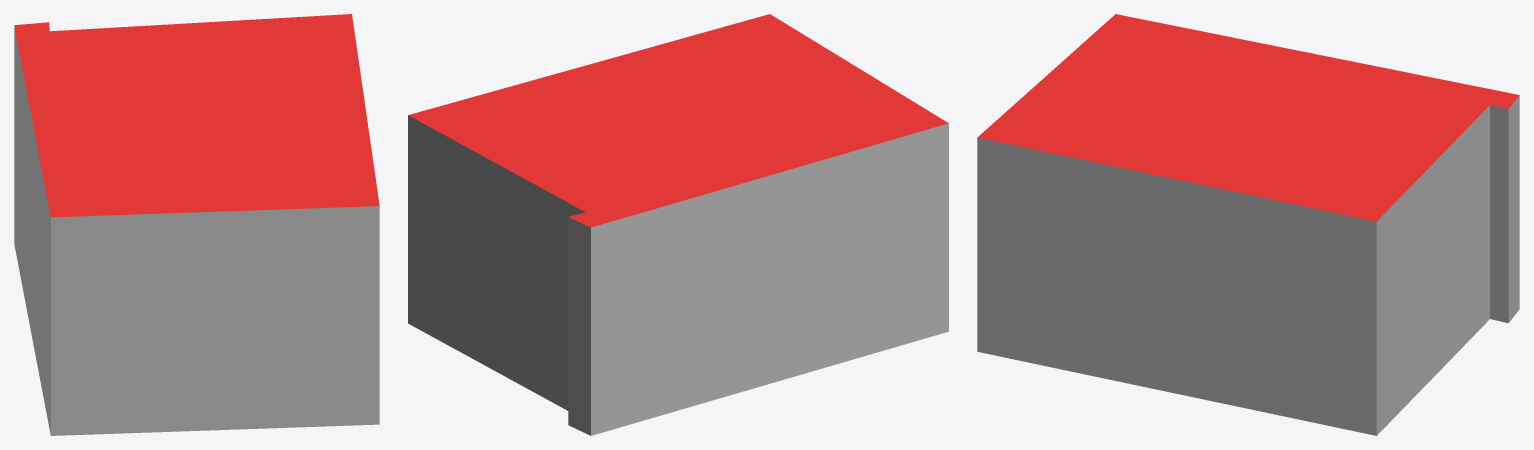
The model's file is DEBY_LOD2_4908169.dae.
3 views of the same model, side by side, from view 1: azimuth 30°, elevation 25°; view 2: azimuth 150°, elevation 25°; view 3: azimuth 270°, elevation 25° (orthographic). The views are drawn at different scales.
Size of the model in its own units: 5.33 by 5.88 by 2.56.
